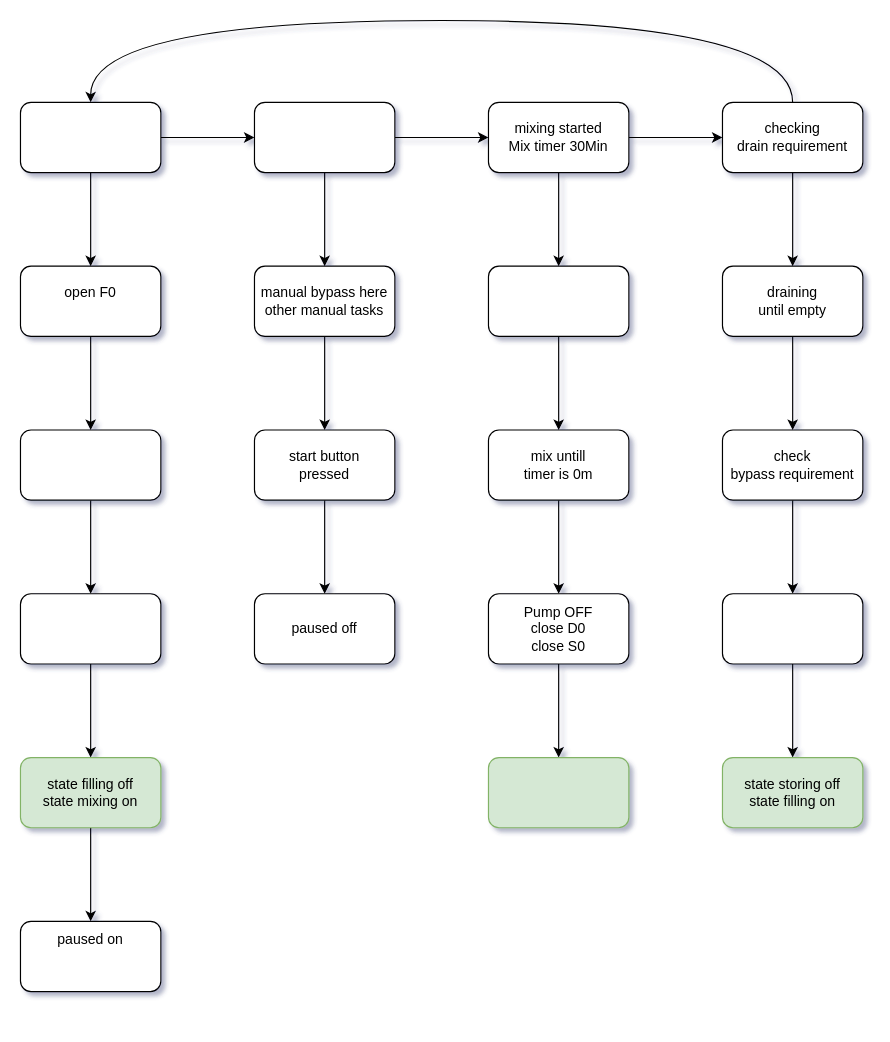
This 890x1042 diagram has some shape labels left out. Here are the shapes that lost their labels. From the top down, the centre of each, then its label:
At point (90, 137): "filling mixer".
At point (324, 137): "system paused awaiting start/stop".
At point (558, 300): "open D0 open S0 Pump ON".
At point (90, 464): "count 500L using Flow1".
At point (90, 628): "close F0".
At point (792, 628): "bypass until requirement 0L".
At point (558, 792): "state mixing off state storing on".
